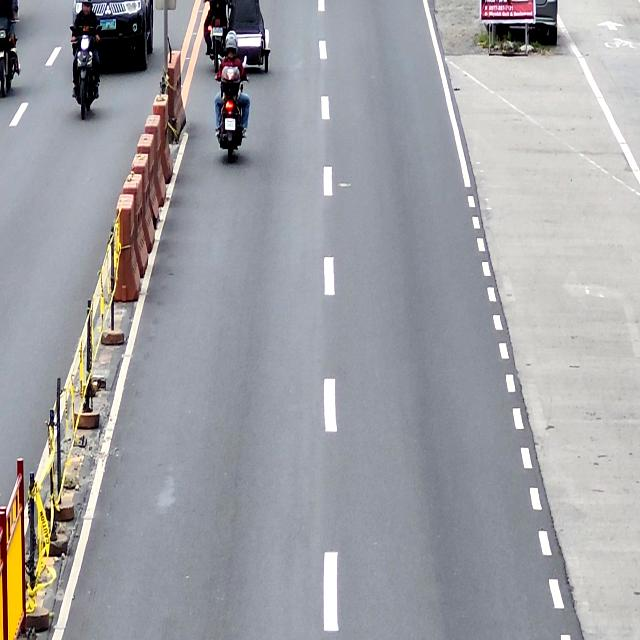License-Plate: (224, 118, 235, 130), (212, 25, 223, 37)
Motorcycle: (217, 54, 247, 165)
Tricycle: (206, 0, 271, 75)
